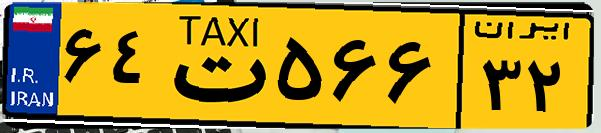2: (525, 38, 570, 115)
3: (475, 38, 525, 113)
4: (110, 28, 158, 98)
5: (270, 28, 330, 110)
6: (385, 28, 445, 110), (330, 28, 385, 110), (57, 26, 110, 100)
ت: (158, 12, 270, 120)
